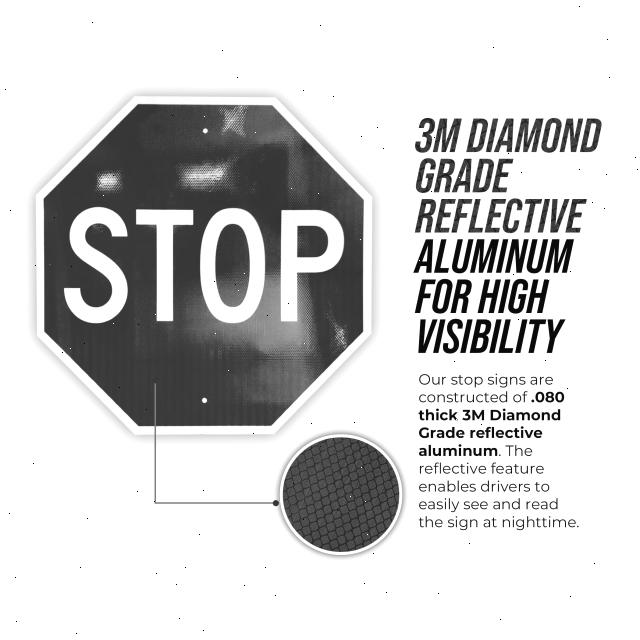stop: (34, 96, 380, 434)
